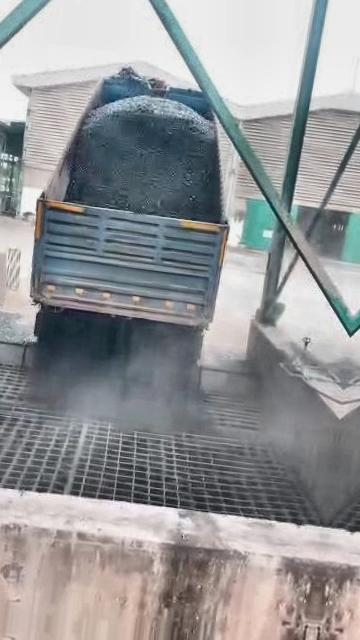gravel: (65, 95, 221, 222), (36, 310, 201, 402), (0, 307, 33, 341)
